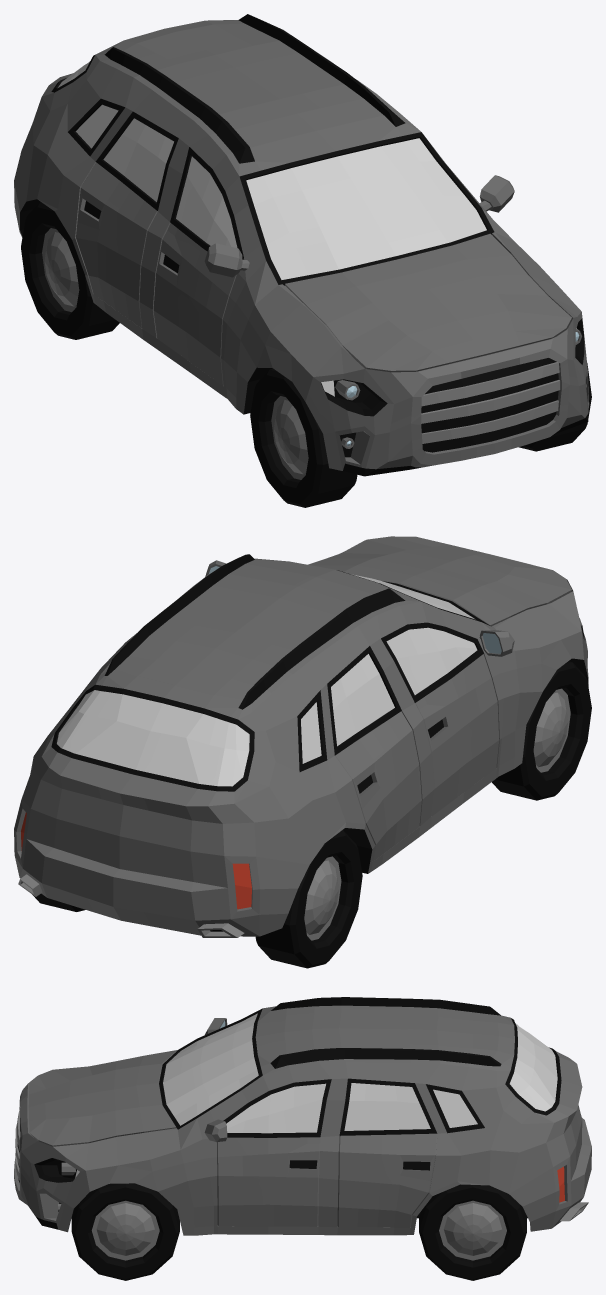
The model's file is Vehicle_Crossover01_Static.fbx.
The picture shows the model from 3 angles, top to bottom: view 1: azimuth 30°, elevation 25°; view 2: azimuth 150°, elevation 25°; view 3: azimuth 270°, elevation 25°; orthographic projection. The views are drawn at different scales.
Visible parts, largest first — view 1: Vehicle_Crossover01; view 2: Vehicle_Crossover01; view 3: Vehicle_Crossover01.
Boxes of the visible parts, x1,y1,x2,y2 form: Vehicle_Crossover01: (14, 14, 591, 507); Vehicle_Crossover01: (14, 536, 591, 968); Vehicle_Crossover01: (14, 997, 591, 1280).
Size of what is drawn, in the model's own units: 222 by 479 by 191.
